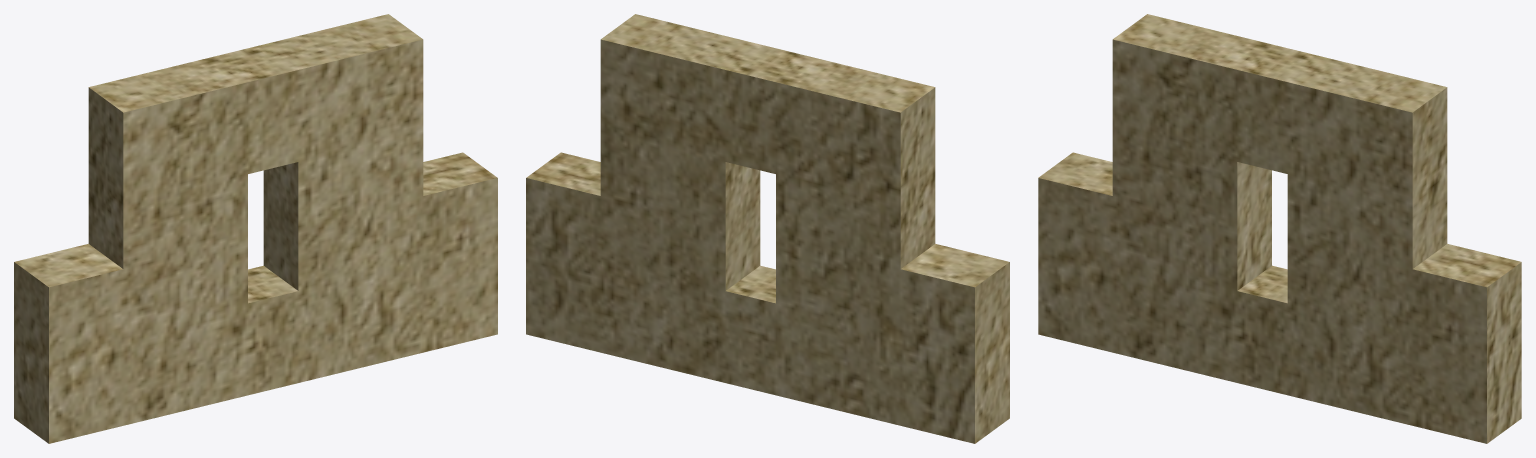
The model's file is Dec01.fbx.
3 renders of one model, left to right at view 1: azimuth 30°, elevation 25°; view 2: azimuth 150°, elevation 25°; view 3: azimuth 330°, elevation 25°, orthographic.
Parts seen in each view (by area): view 1: Dec01; view 2: Dec01; view 3: Dec01.
Part boxes in pixels (bbox=[...]): Dec01: bbox=[14, 14, 497, 443]; Dec01: bbox=[526, 14, 1009, 443]; Dec01: bbox=[1038, 14, 1521, 443].
Bounding box in the file's own units: 715 × 476 × 95.94.
